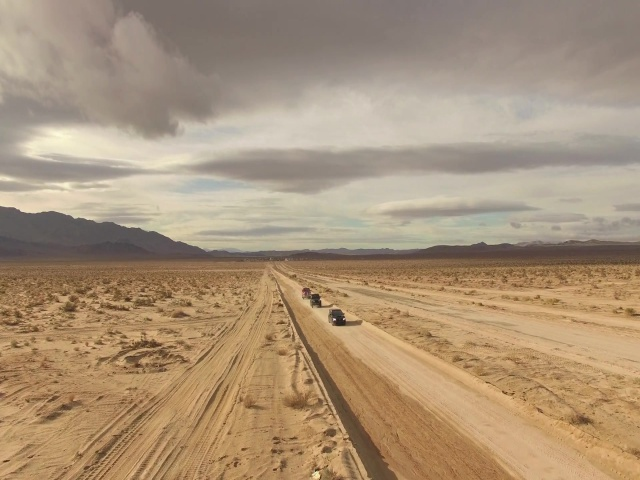vehicle: (327, 307, 347, 327), (309, 293, 322, 309), (300, 286, 311, 300)
